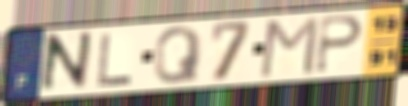7: (208, 20, 255, 84)
L: (96, 31, 135, 87)
M: (257, 14, 322, 80)
N: (37, 28, 96, 97)
P: (313, 14, 366, 75)
Q: (152, 24, 206, 86)
